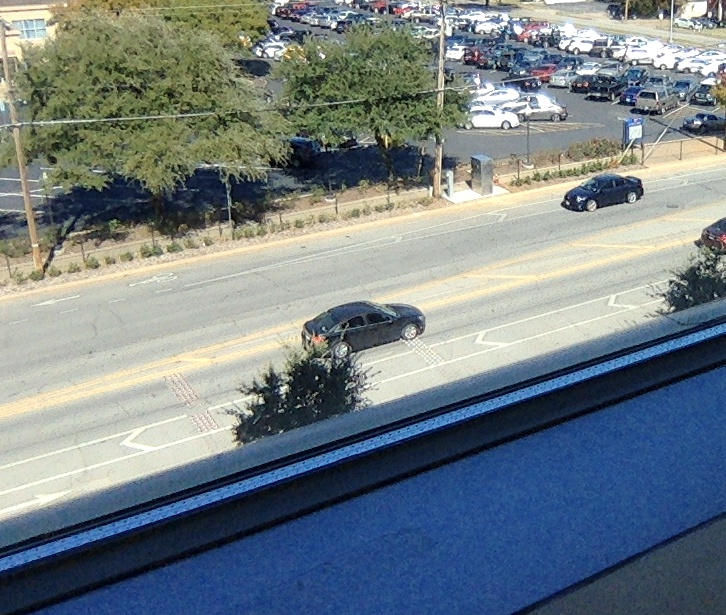car: (300, 300, 426, 360)
